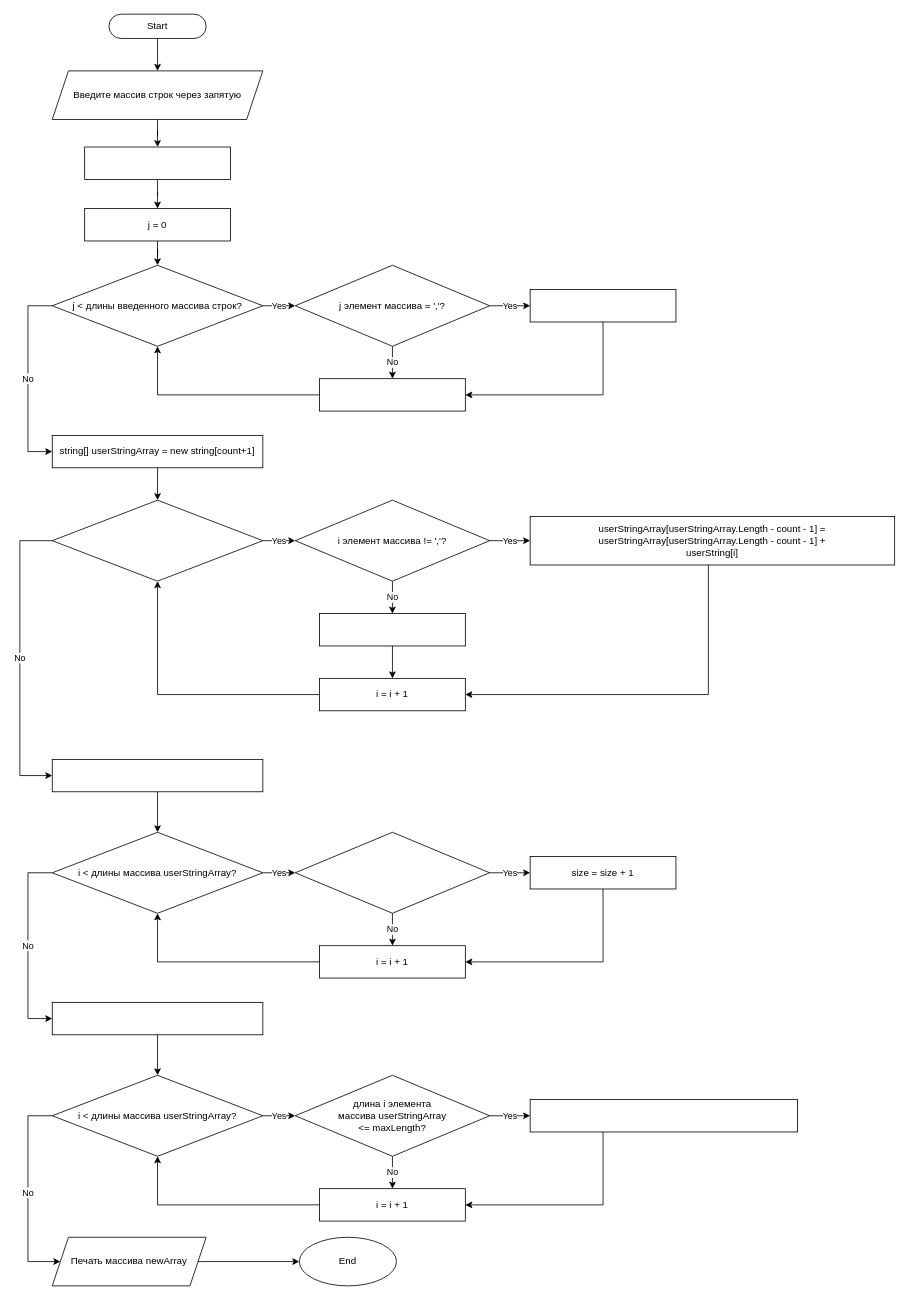
The diagram is 909 pixels wide and 1300 high, and some of its shapes have lost their labels. The shapes that lost their labels are listed below. From the top down, each one's centre as x and y in pixels, then its label:
At pixel 157 162: "maxLength = 3 count = 0".
At pixel 602 305: "count = count + 1".
At pixel 392 394: "j = j + 1".
At pixel 157 540: "i < длины введенного массива строк?".
At pixel 392 629: "count = count - 1".
At pixel 157 775: "size = 0".
At pixel 392 872: "i элемент массива <= maxLength?".
At pixel 157 1018: "string[] newArray = new string[size]".
At pixel 663 1115: "newArray[newArray.Length - size] = userStringArray[i] size = size - 1".
